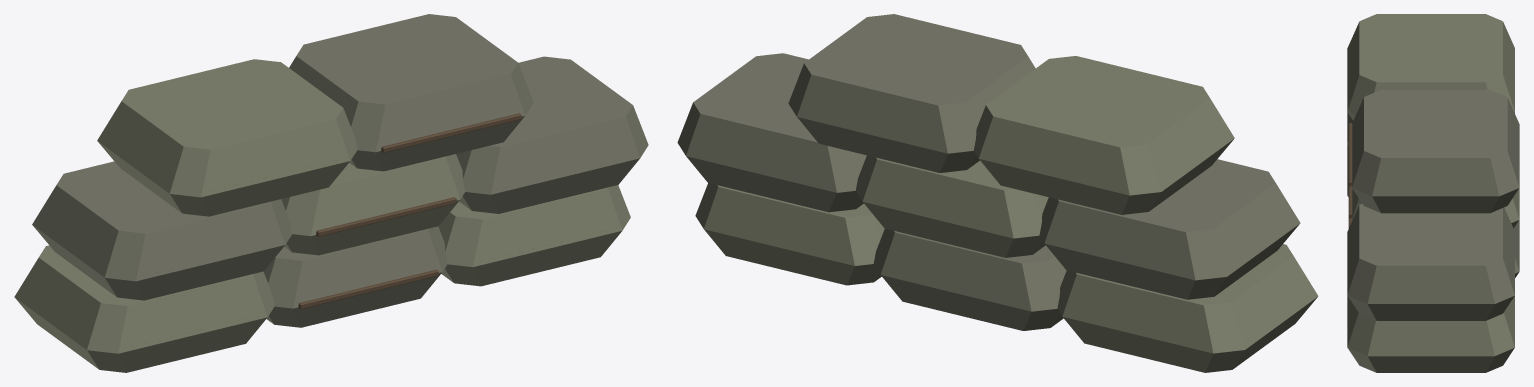
File: Sandbags01.fbx
3 renders of one model, left to right at view 1: azimuth 30°, elevation 25°; view 2: azimuth 150°, elevation 25°; view 3: azimuth 270°, elevation 25°, orthographic. The views are drawn at different scales.
Parts seen in each view (by area): view 1: Canvas_Bag.006, Canvas_Bag.007, Canvas_Bag.003, Canvas_Bag.005, Canvas_Bag, Canvas_Bag.002, Canvas_Bag.001, Canvas_Bag.004, Bag_Seam.001, Bag_Seam.004, Bag_Seam.007; view 2: Canvas_Bag.006, Canvas_Bag.007, Canvas_Bag.003, Canvas_Bag, Canvas_Bag.005, Canvas_Bag.004, Canvas_Bag.001, Canvas_Bag.002; view 3: Canvas_Bag.007, Canvas_Bag.005, Canvas_Bag.006, Canvas_Bag.002, Canvas_Bag.004, Bag_Seam.007, Canvas_Bag.001, Bag_Seam.004.
Part boxes in pixels (bbox=[...]): Canvas_Bag.006: bbox=[97, 59, 357, 216]; Canvas_Bag.007: bbox=[289, 14, 533, 171]; Canvas_Bag.003: bbox=[32, 161, 292, 300]; Canvas_Bag.005: bbox=[456, 56, 648, 213]; Canvas_Bag: bbox=[14, 245, 274, 372]; Canvas_Bag.002: bbox=[438, 185, 630, 286]; Canvas_Bag.001: bbox=[263, 226, 447, 327]; Canvas_Bag.004: bbox=[281, 154, 465, 255]; Bag_Seam.001: bbox=[298, 269, 438, 309]; Bag_Seam.004: bbox=[316, 197, 456, 236]; Bag_Seam.007: bbox=[381, 113, 521, 152]; Canvas_Bag.006: bbox=[973, 56, 1234, 214]; Canvas_Bag.007: bbox=[788, 14, 1035, 172]; Canvas_Bag.003: bbox=[1039, 159, 1300, 299]; Canvas_Bag: bbox=[1057, 244, 1318, 372]; Canvas_Bag.005: bbox=[677, 53, 866, 212]; Canvas_Bag.004: bbox=[855, 155, 1048, 257]; Canvas_Bag.001: bbox=[873, 228, 1066, 330]; Canvas_Bag.002: bbox=[695, 183, 884, 285]; Canvas_Bag.007: bbox=[1352, 90, 1519, 213]; Canvas_Bag.005: bbox=[1347, 203, 1514, 320]; Canvas_Bag.006: bbox=[1347, 14, 1514, 120]; Canvas_Bag.002: bbox=[1347, 296, 1514, 372]; Canvas_Bag.004: bbox=[1352, 188, 1519, 228]; Bag_Seam.007: bbox=[1348, 123, 1352, 186]; Canvas_Bag.001: bbox=[1513, 220, 1519, 277]; Bag_Seam.004: bbox=[1348, 186, 1352, 218].
Bounding box in the file's own units: 190 × 65.5 × 57.5.
